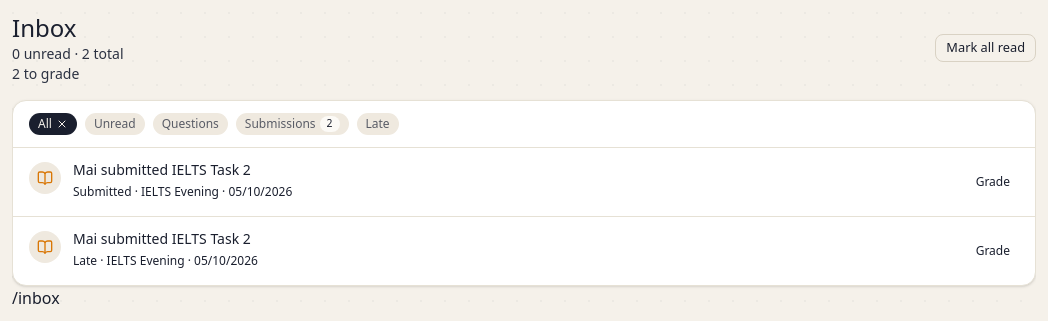
Test: InboxView — teacher merged work-queue feed (10-1c AC6/AC7/AC9/AC10) › AC7: Late chip refetches the queue with late_only=true (server-side filter)
This screenshot has width=1048, height=321.
Check: the list item with test id "inbox-row-s1" is shown, box x1=13 y1=148 x2=1035 y2=217
# activate the Late chip (net-new 10-1c label key).
Click the button with test id "inbox-list-shell-filter-inboxList.filters.late" at (378, 124), box x1=356 y1=113 x2=399 y2=135
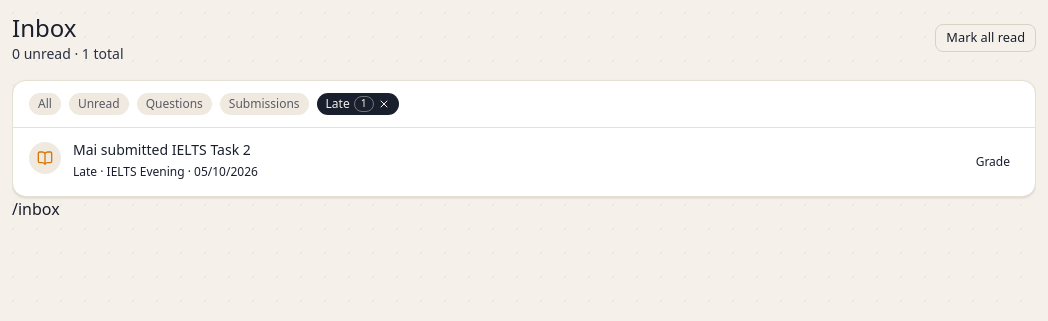
Check: the list item with test id "inbox-row-s2" is shown, box x1=13 y1=128 x2=1035 y2=196
Check: the list item with test id "inbox-row-s1" is gone
